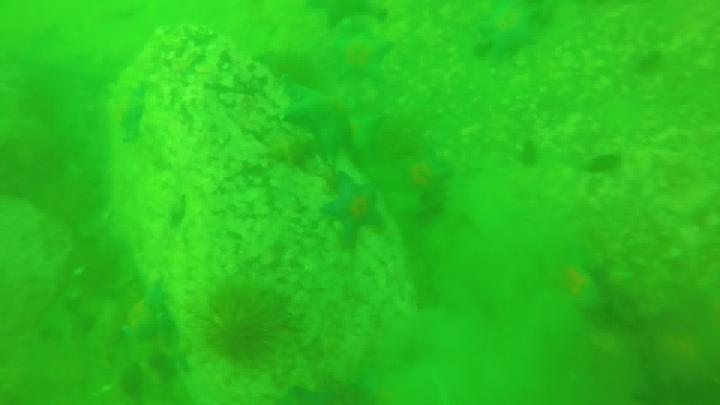echinus: (204, 289, 286, 369)
starfish: (283, 87, 352, 171), (321, 175, 384, 248), (474, 11, 542, 56)
